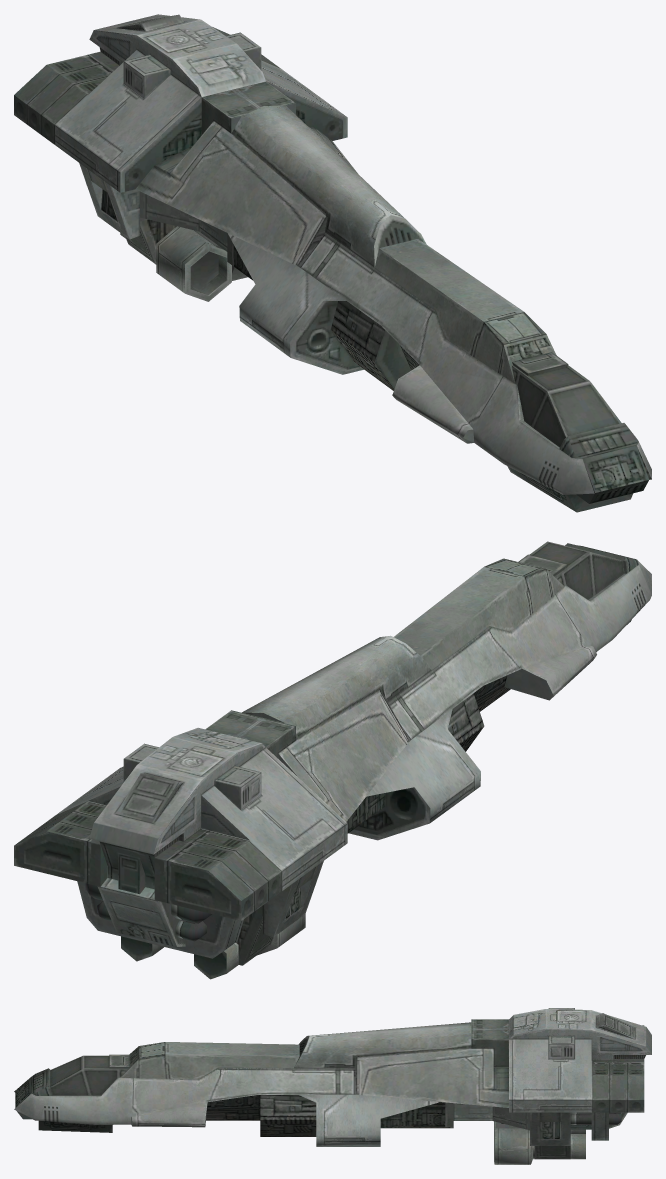
The model's file is black_sun_fighter_light_body_s02_l1.fbx.
3 views of the same model, one above another, from view 1: azimuth 30°, elevation 25°; view 2: azimuth 150°, elevation 25°; view 3: azimuth 270°, elevation 25° (orthographic). The views are drawn at different scales.
Parts seen in each view (by area): view 1: mesh_node; view 2: mesh_node; view 3: mesh_node.
Boxes of the visible parts, left/top/right/bottom form: mesh_node: left=14, top=14, right=651, bottom=512; mesh_node: left=14, top=541, right=651, bottom=979; mesh_node: left=14, top=1008, right=651, bottom=1164.
Size of the model in its own units: 4.54 by 4.04 by 17.37.
1 material, 1 textured.
